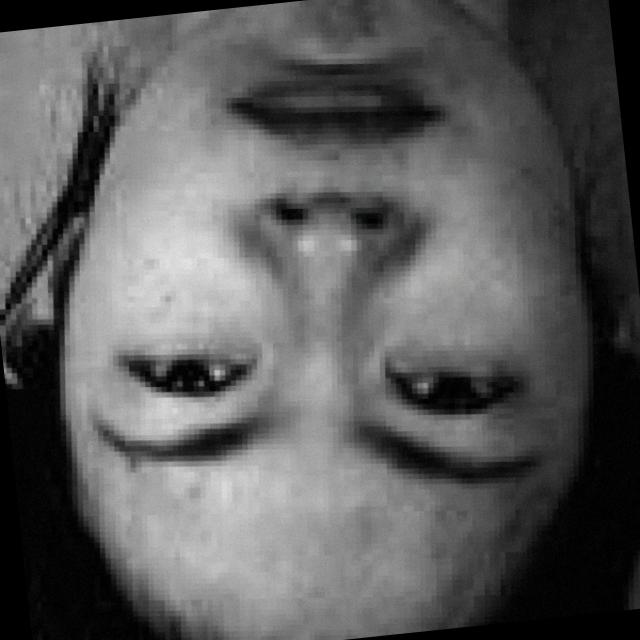disgust: (61, 0, 580, 622)
